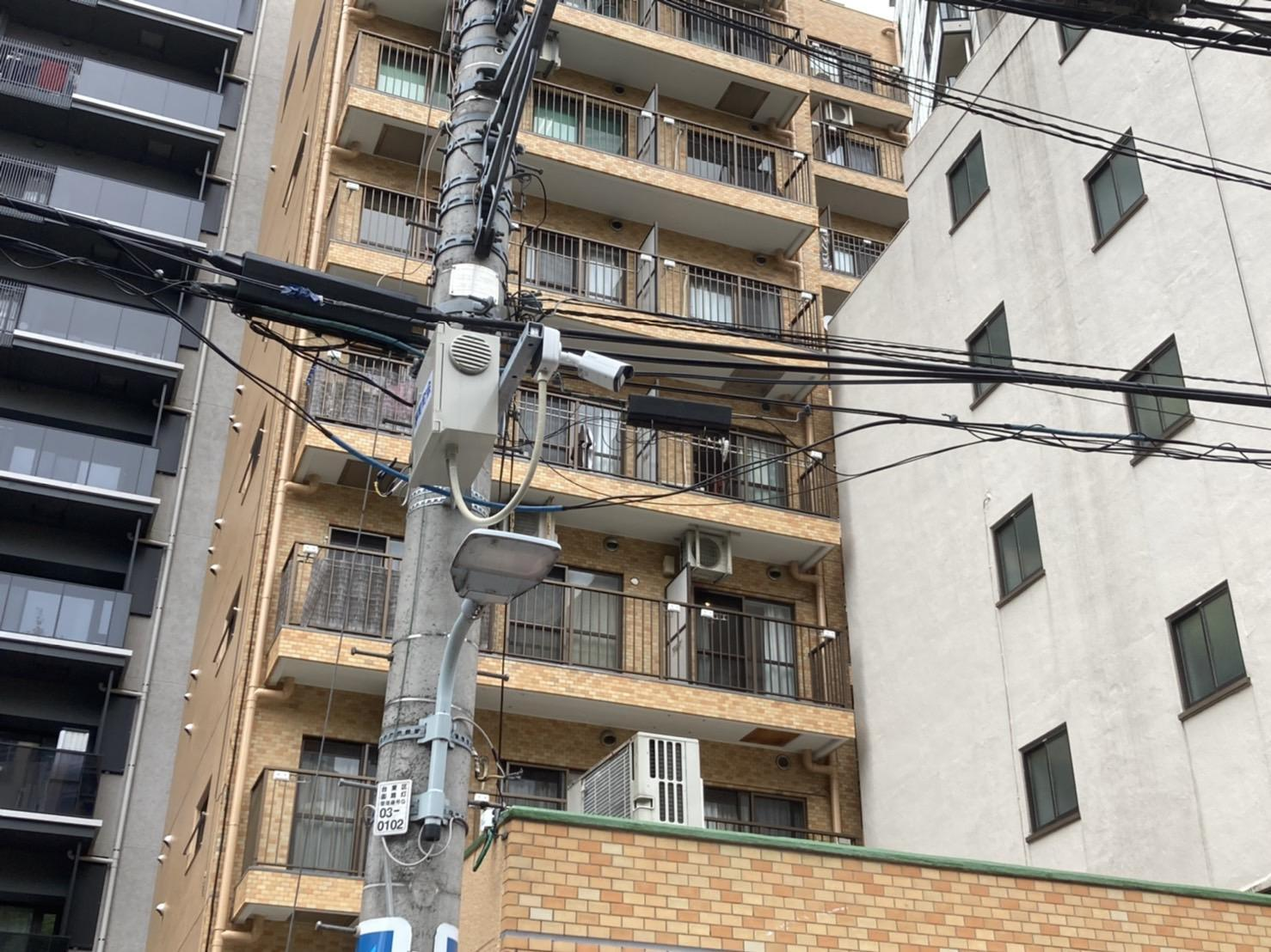tutu: (574, 340, 636, 402)
